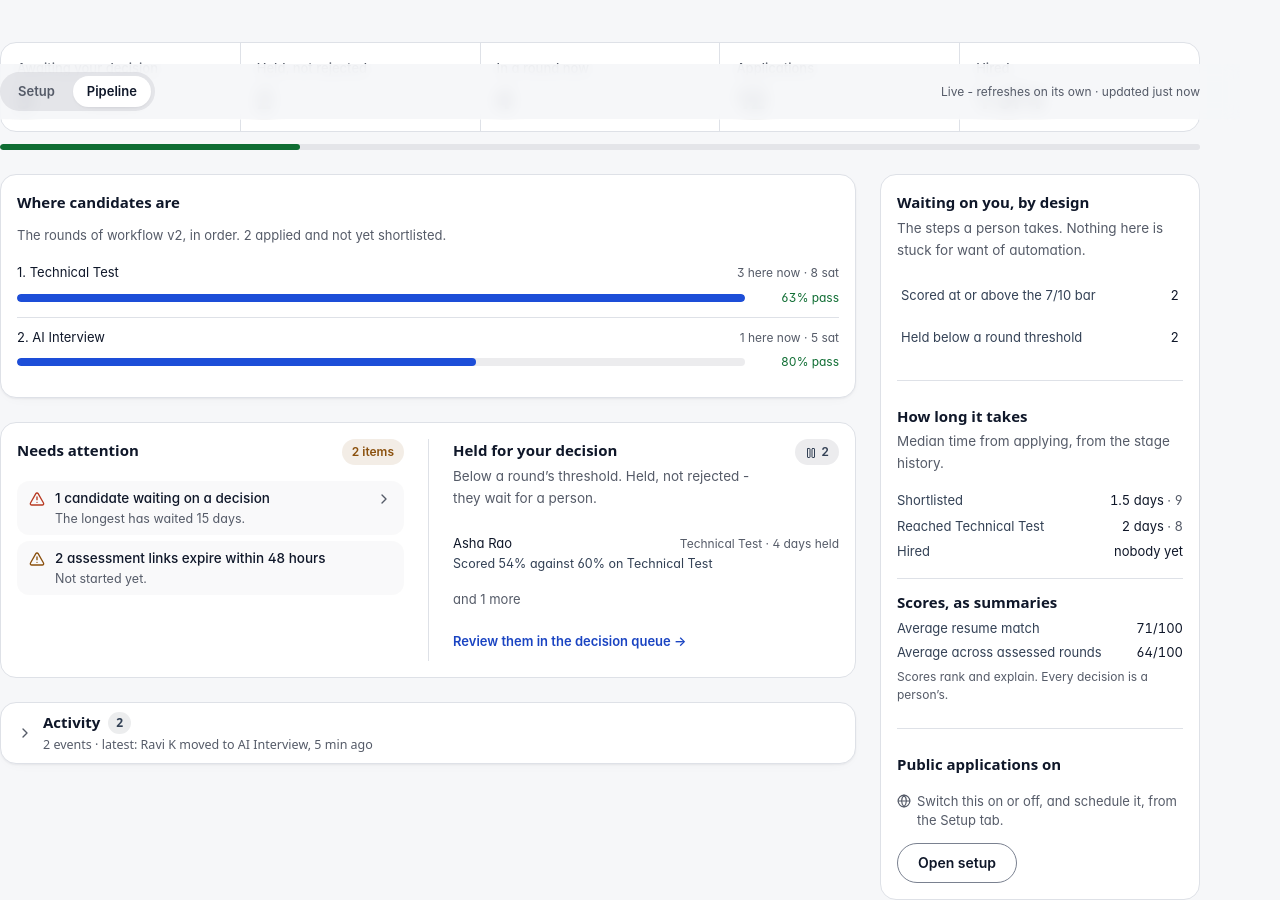
it: the per-opening dashboard (E1) › tells automated activity apart from what a person did, and when
(page scrolled)
Check: the text with test id "collapsible-summary" reads "2 events · latest: Ravi K moved to AI Interview, 5 min ago", box [43,736,373,753]
Click the button "Activity" at (72, 722), box [17,703,839,763]
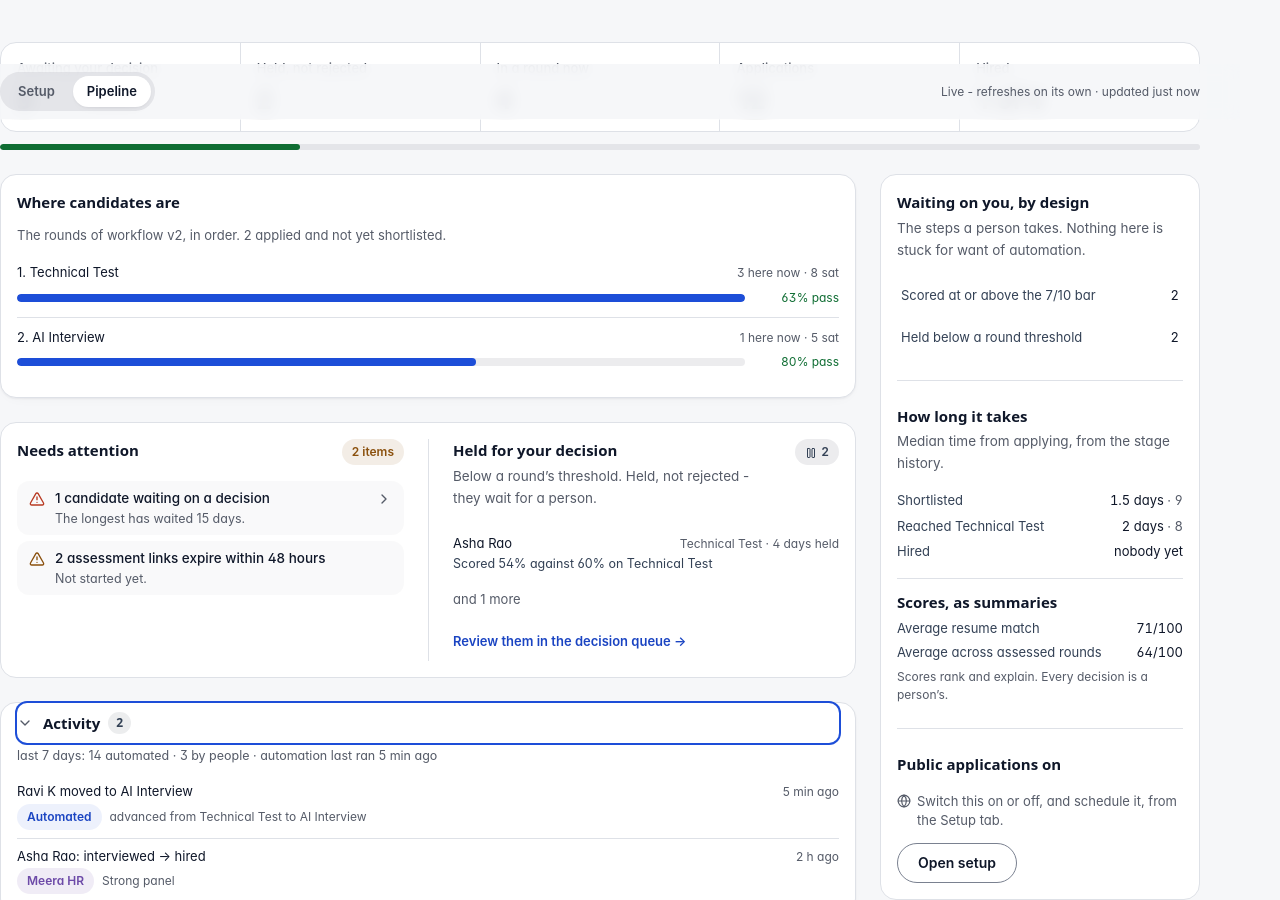
Check: the text "Automated" is shown, box [17,804,102,830]
Check: the text "Meera HR" is shown, box [17,868,94,894]
Check: the text "14 automated · 3 by people" is shown, box [17,748,437,763]
